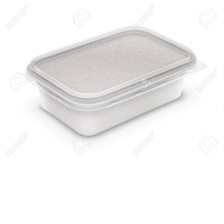plastic_box: (18, 19, 203, 145)
